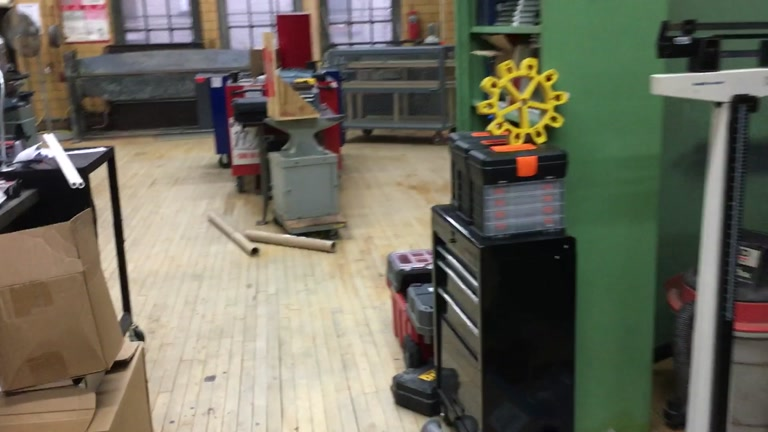gear: (475, 57, 571, 146)
